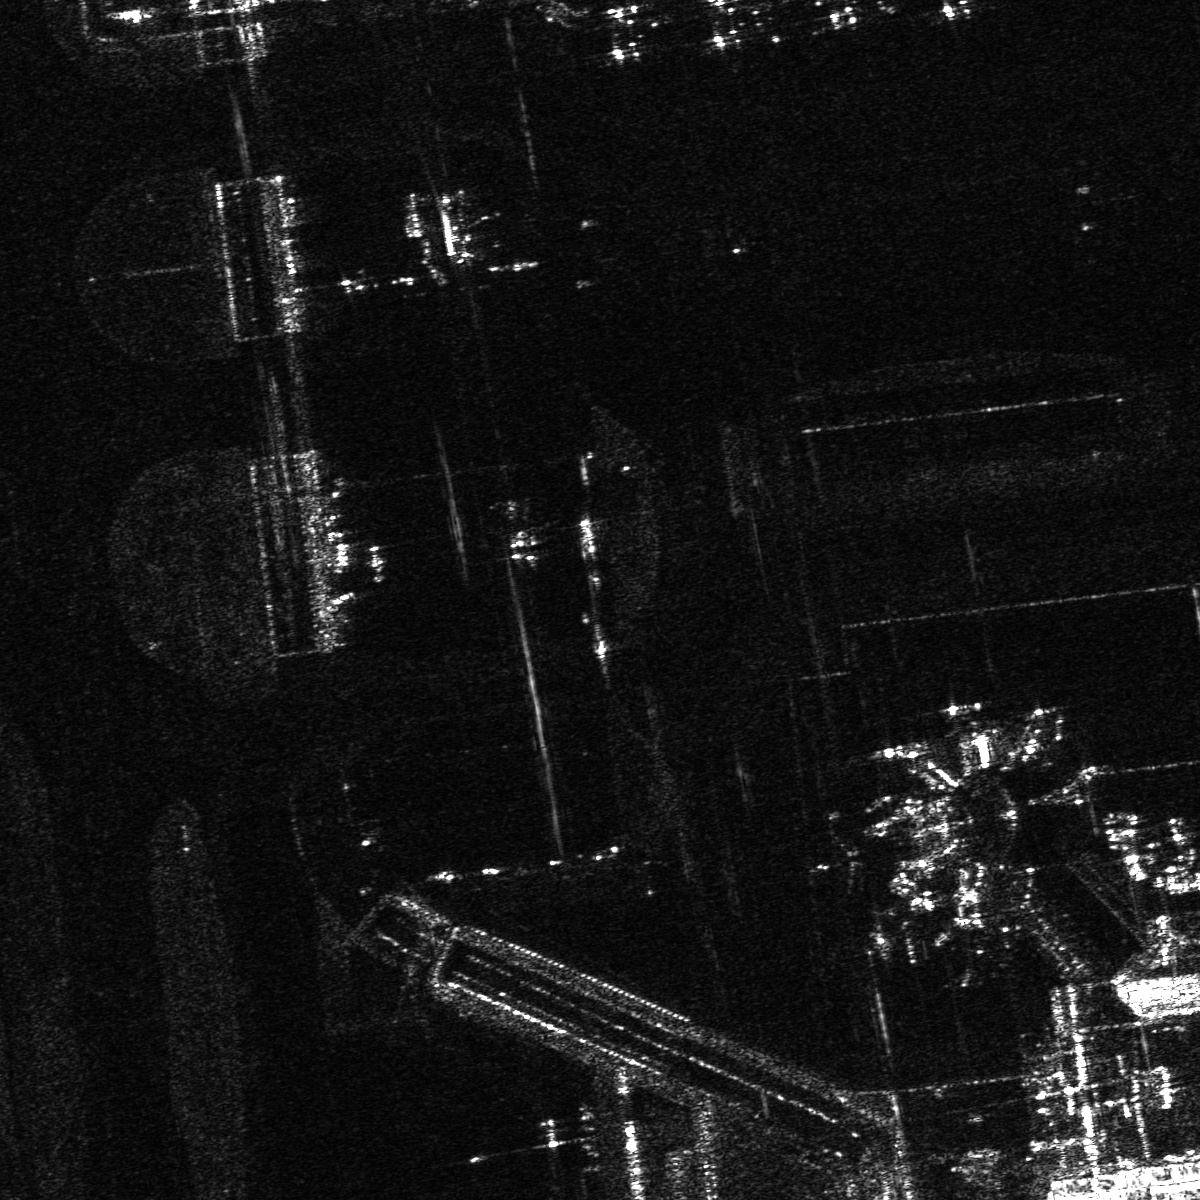A220: (803, 827, 874, 895)
